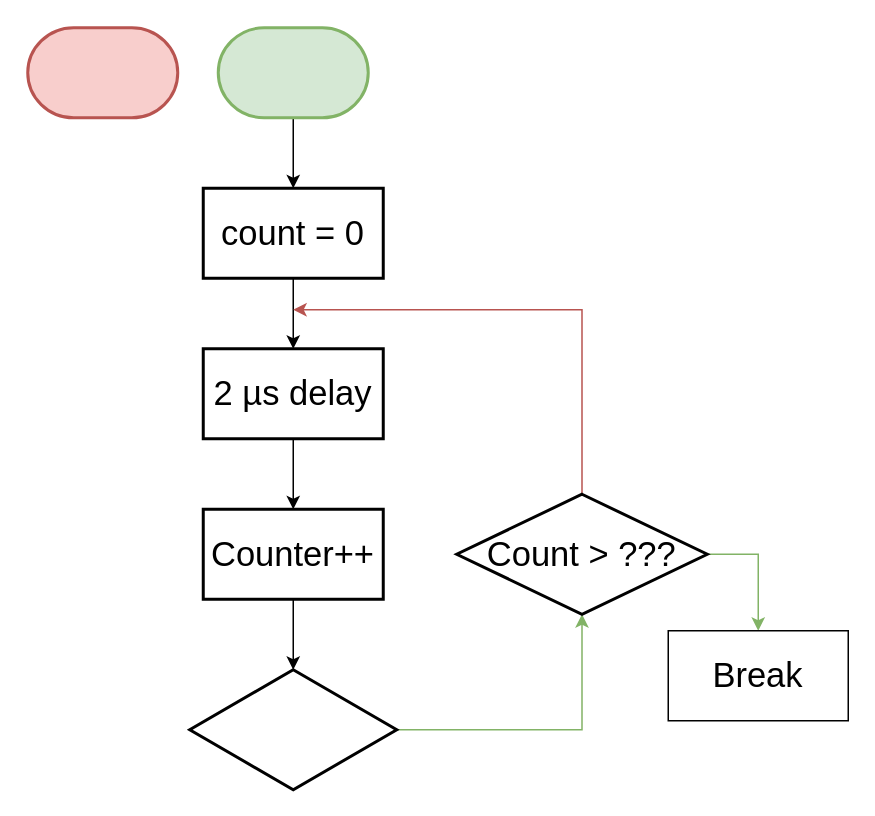
Some shapes in this 875 by 816 pixel diagram are drawn without their labels. Here are the shapes that lost their labels. From the top down, the centre of each, then its label:
At point (102, 72): "End".
At point (292, 72): "Start".
At point (293, 729): "Data = 0?".
